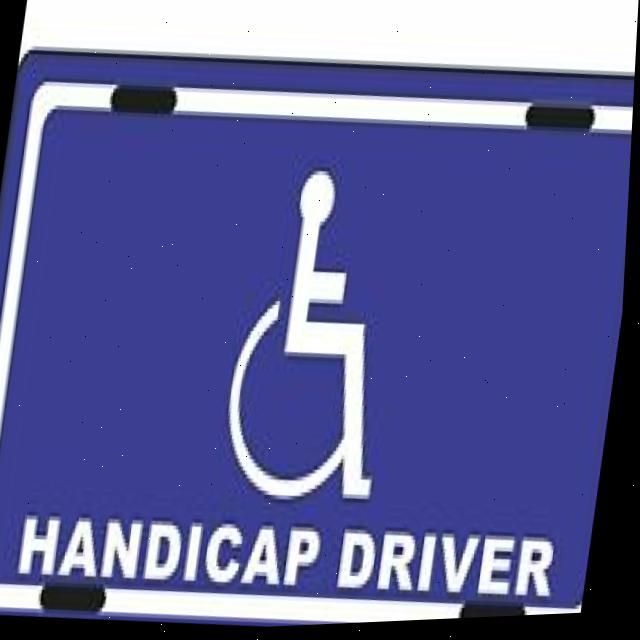symbol_of_access: (203, 149, 440, 525)
